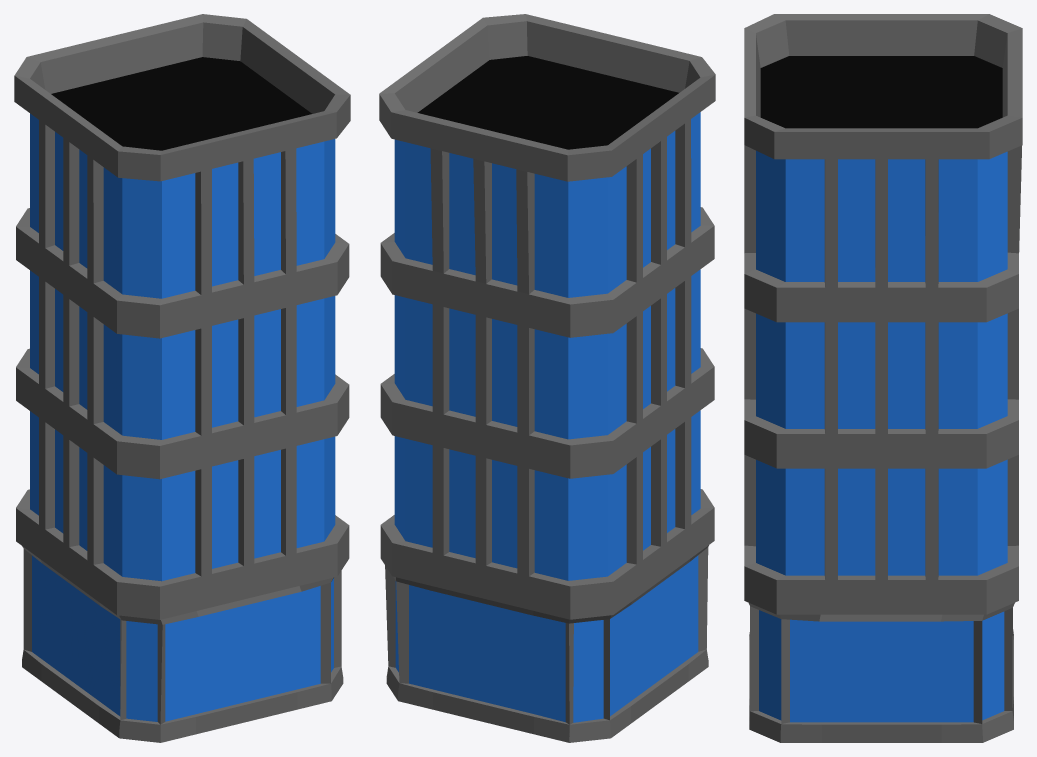
Rendered from Tower1.fbx.
The picture shows the model from 3 angles, left to right: view 1: azimuth 30°, elevation 25°; view 2: azimuth 150°, elevation 25°; view 3: azimuth 270°, elevation 25°; orthographic projection. The views are drawn at different scales.
Visible parts, largest first — view 1: Tower1; view 2: Tower1; view 3: Tower1.
Part boxes in pixels (x1,y1,x2,y2): Tower1: (14,14,350,742); Tower1: (379,14,715,742); Tower1: (744,14,1022,742).
Bounding box in the file's own units: 7.24 × 17.56 × 7.23.
